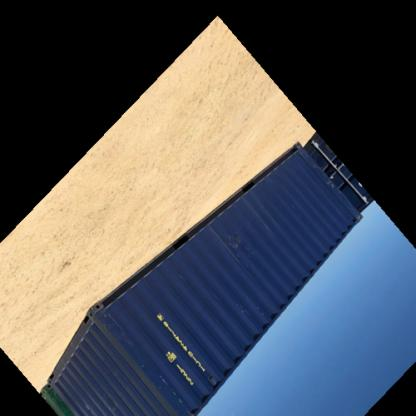Damage: (216, 220, 250, 267)
